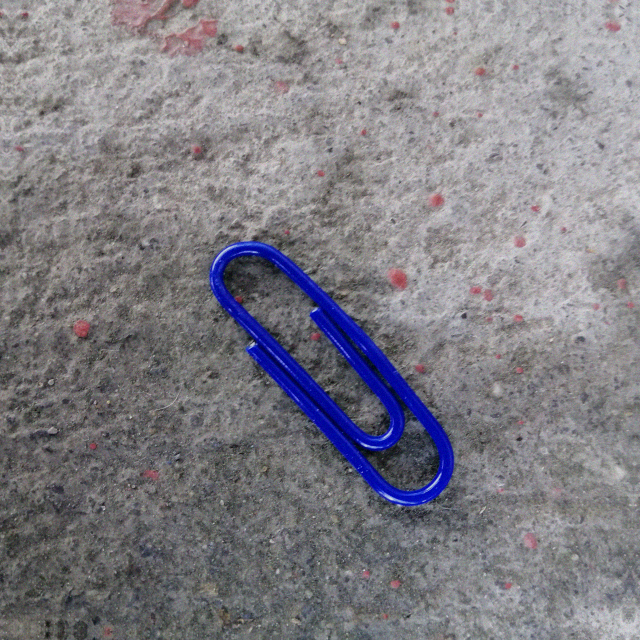pin: (207, 238, 458, 517)
